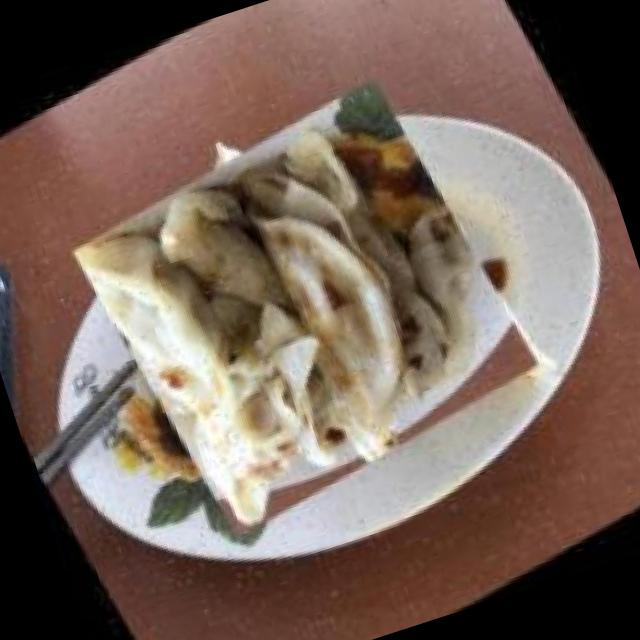fried_dumplings: (45, 49, 568, 563)
